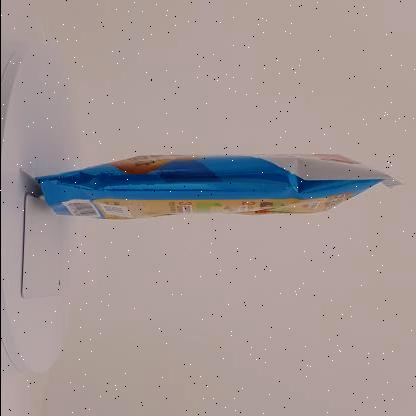Others: (23, 110, 405, 262)
